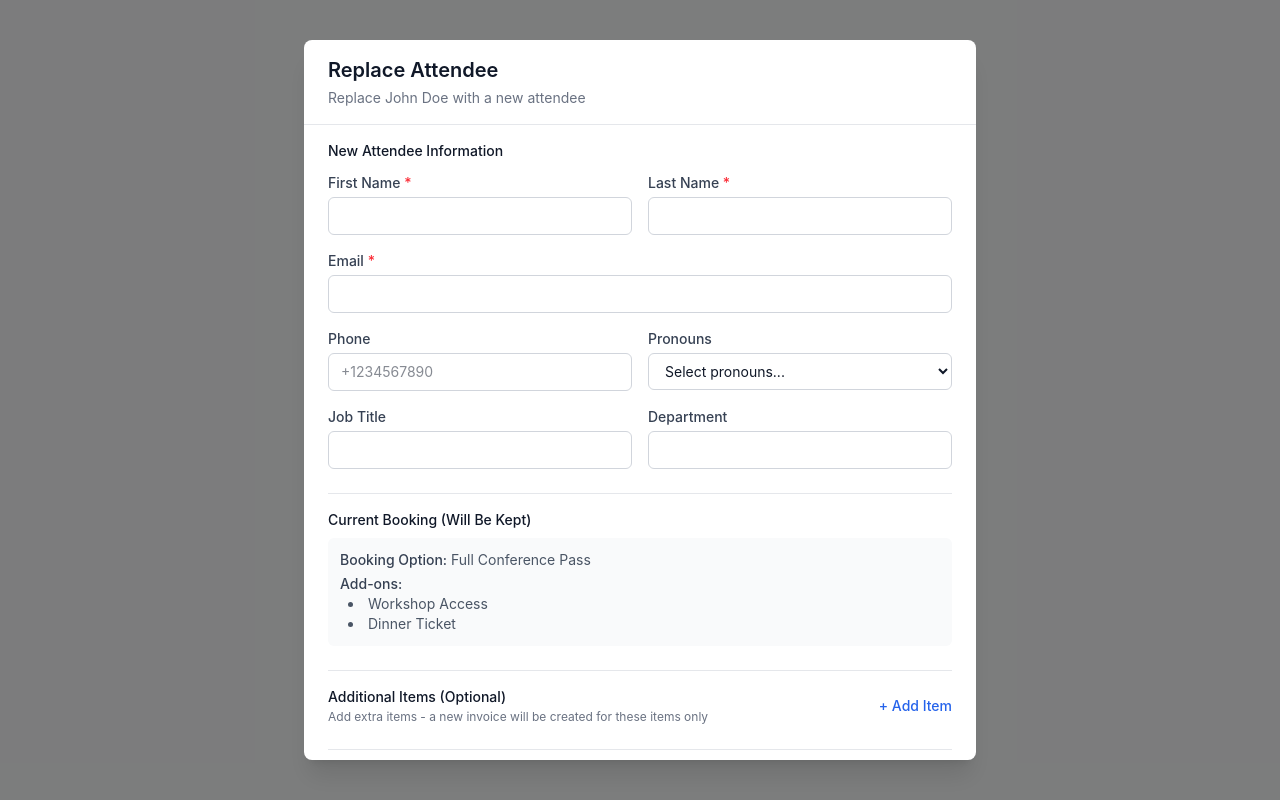
it: ReplaceAttendeeModal › Additional Items › should show and hide add item form
Note: Open form
Click the button "+ Add Item".
click(915, 706)  # box [879,696,952,716]
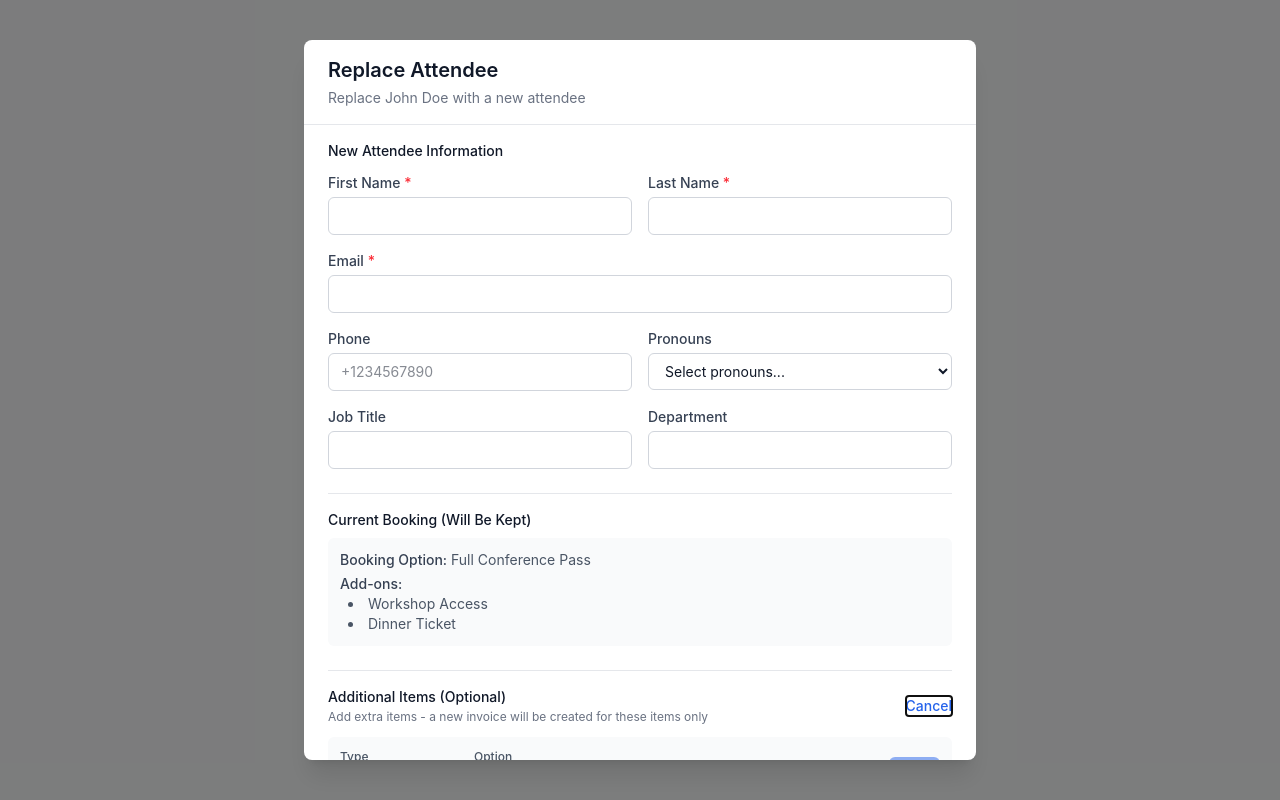
Expected: the text "Type" is shown, [340,749,368,760]
Click the button "Cancel".
click(929, 706)  # box [906,696,952,716]
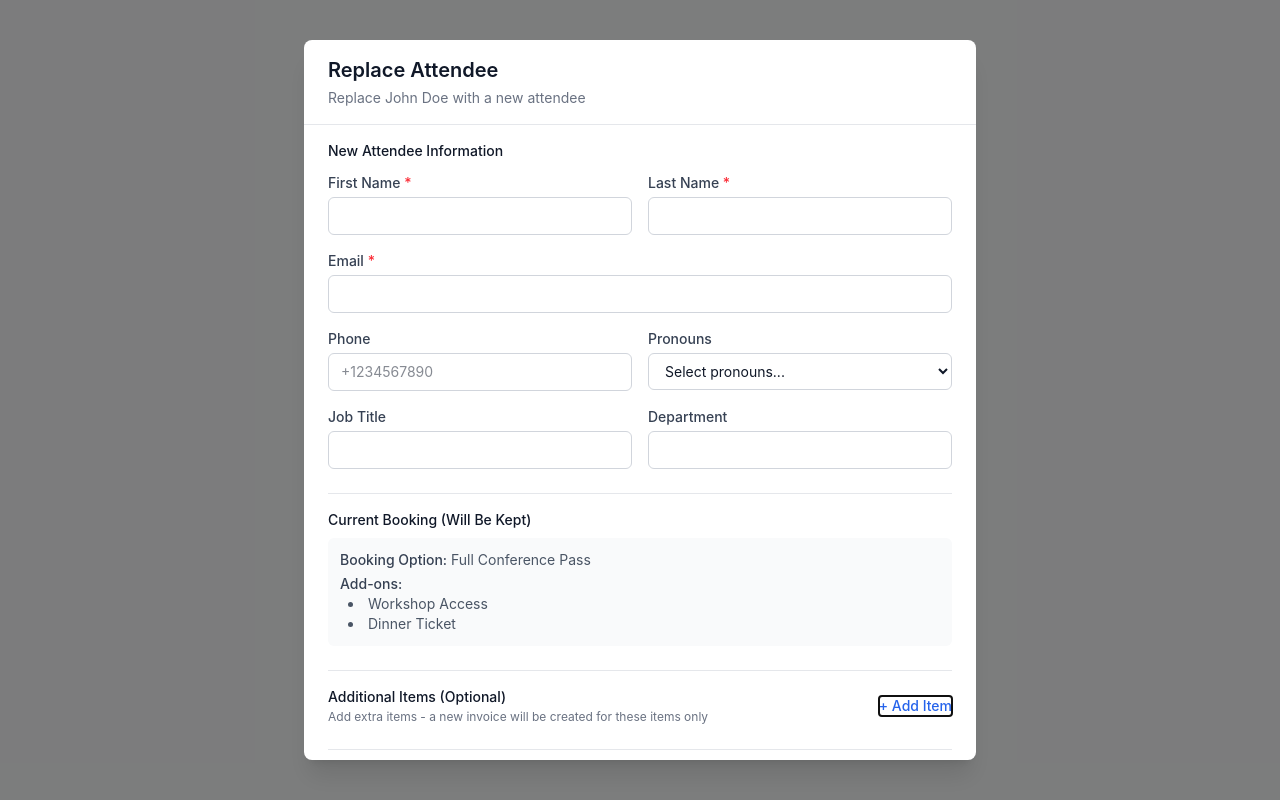
Expected: the text "Type" is gone
Expected: the button "+ Add Item" is shown, [879,696,952,716]
